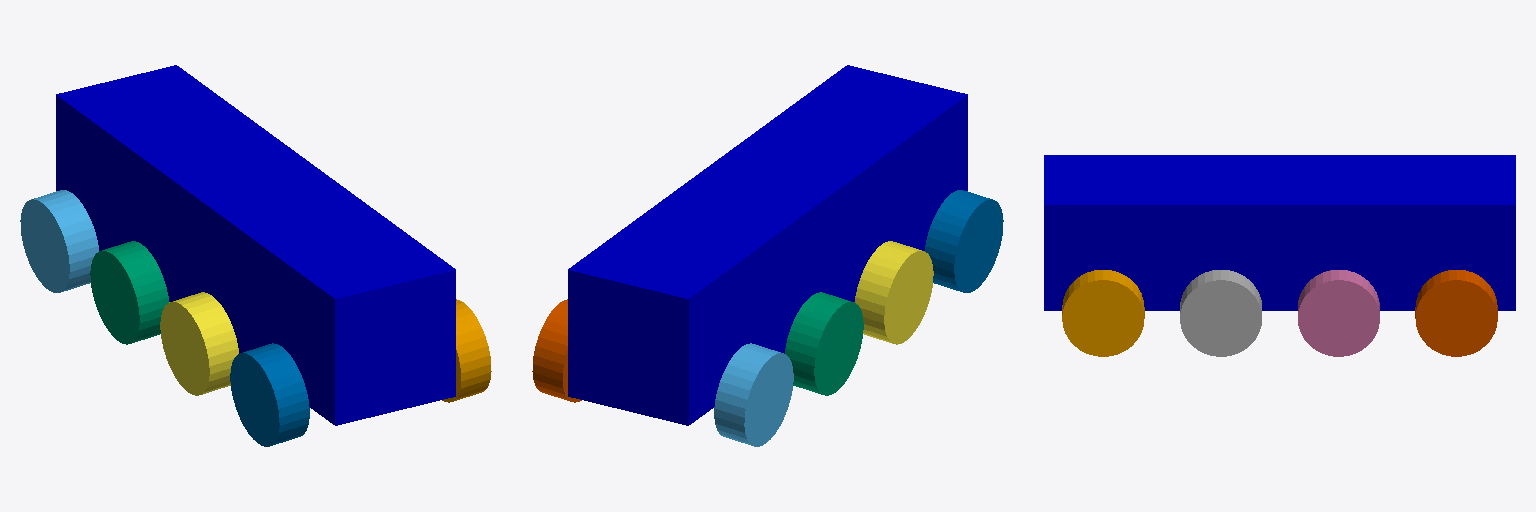
URDF robot description (8x8):
<?xml version="1.0"?>
<robot name="8x8">

  <material name="blue">
    <color rgba="0 0 0.8 1"/>
  </material>

  <material name="white">
    <color rgba="1 1 1 1"/>
  </material>

 <material name="black">
    <color rgba="0 0 0 1"/>
  </material>

  <link name="base_link">
    <visual>
      <geometry>
        <box size="0.2 0.8 0.2"/>
      </geometry>
      <origin rpy="0 0 0" xyz="0 0 0.2"/>
      <material name = "blue"/>
    </visual>
    <collision>
      <geometry>
        <box size="0.2 0.8 0.2"/>
      </geometry>
    </collision>
    <inertial>
      <mass value = "10" />
      <inertia ixx="0.5667" ixy="0.0" ixz="0.0" iyy="0.5667" iyz="0.0" izz="0.0667"/>
    </inertial>
  </link>

  <link name="left_wheel_1">
    <visual>
      <geometry>
        <cylinder length="0.05" radius="0.07"/>
      </geometry>
      <material name="Black"/>
      <origin rpy="0 1.5 0" xyz="-0.05 0 0"/>
    </visual>
  </link>

  <joint name="LW1_joint" type="revolute">
    <axis xyz="0 0 1" />
    <limit effort="1000.0" lower="-0.5" upper="0.5" velocity="0.5"/>
    <parent link="base_link"/>
    <child link="left_wheel_1"/>
    <origin xyz="-0.1 0.3 0.12"/>
  </joint>

<link name="left_wheel_2">
    <visual>
      <geometry>
        <cylinder length="0.05" radius="0.07"/>
      </geometry>
      <material name="Black"/>
      <origin rpy="0 1.5 0" xyz="-0.05 0 0"/>
    </visual>
  </link>

  <joint name="LW2_joint" type="revolute">
    <axis xyz="0 0 1" />
    <limit effort="1000.0" lower="-0.5" upper="0.5" velocity="0.5"/>
    <parent link="base_link"/>
    <child link="left_wheel_2"/>
    <origin xyz="-0.1 0.1 0.12"/>
  </joint>


<link name="left_wheel_3">
    <visual>
      <geometry>
        <cylinder length="0.05" radius="0.07"/>
      </geometry>
      <material name="Black"/>
      <origin rpy="0 1.5 0" xyz="-0.05 0 0"/>
    </visual>
  </link>

  <joint name="LW3_joint" type="revolute">
    <axis xyz="0 0 1" />
    <limit effort="1000.0" lower="-0.5" upper="0.5" velocity="0.5"/>
    <parent link="base_link"/>
    <child link="left_wheel_3"/>
    <origin xyz="-0.1 -0.1 0.12"/>
  </joint>

<link name="left_wheel_4">
    <visual>
      <geometry>
        <cylinder length="0.05" radius="0.07"/>
      </geometry>
      <material name="Black"/>
      <origin rpy="0 1.5 0" xyz="-0.05 0 0"/>
    </visual>
  </link>

  <joint name="LW4_joint" type="fixed">
    <parent link="base_link"/>
    <child link="left_wheel_4"/>
    <origin xyz="-0.1 -0.3 0.12"/>
  </joint>

// Right side
<link name="right_wheel_1">
    <visual>
      <geometry>
        <cylinder length="0.05" radius="0.07"/>
      </geometry>
      <material name="Black"/>
      <origin rpy="0 1.5 0" xyz="0.05 0 0"/>
    </visual>
  </link>

  <joint name="RW1_joint" type="revolute">
    <axis xyz="0 0 1" />
    <limit effort="1000.0" lower="-0.5" upper="0.5" velocity="0.5"/>
    <parent link="base_link"/>
    <child link="right_wheel_1"/>
    <origin xyz="0.1 0.3 0.12"/>
  </joint>

<link name="right_wheel_2">
    <visual>
      <geometry>
        <cylinder length="0.05" radius="0.07"/>
      </geometry>
      <material name="Black"/>
       <origin rpy="0 1.5 0" xyz="0.05 0 0"/>
    </visual>
  </link>

  <joint name="RW2_joint" type="revolute">
    <axis xyz="0 0 1" />
    <limit effort="1000.0" lower="-0.5" upper="0.5" velocity="0.5"/>
    <parent link="base_link"/>
    <child link="right_wheel_2"/>
    <origin xyz="0.1 0.1 0.12"/>
  </joint>


<link name="right_wheel_3">
    <visual>
      <geometry>
        <cylinder length="0.05" radius="0.07"/>
      </geometry>
      <material name="Black"/>
       <origin rpy="0 1.5 0" xyz="0.05 0 0"/>
    </visual>
  </link>

  <joint name="RW3_joint" type="revolute">
    <axis xyz="0 0 1" />
    <limit effort="1000.0" lower="-0.5" upper="0.5" velocity="0.5"/>
    <parent link="base_link"/>
    <child link="right_wheel_3"/>
    <origin xyz="0.1 -0.1 0.12"/>
  </joint>

<link name="right_wheel_4">
    <visual>
      <geometry>
        <cylinder length="0.05" radius="0.07"/>
      </geometry>
      <material name="Black"/>
       <origin rpy="0 1.5 0" xyz="0.05 0 0"/>
    </visual>
  </link>

  <joint name="RW4_joint" type="revolute">
    <axis xyz="0 0 1" />
    <limit effort="1000.0" lower="-0.5" upper="0.5" velocity="0.5"/>
    <parent link="base_link"/>
    <child link="right_wheel_4"/>
    <origin xyz="0.1 -0.3 0.12"/>
  </joint>

  <gazebo>
    <plugin name="gazebo_ros_control" filename="libgazebo_ros_control.so">
      <robotNamespace>/</robotNamespace>
    </plugin>
  </gazebo>

</robot>

--- Facts derived from the render (not from the file) ---
The picture shows the robot from 3 angles, left to right: view 1: azimuth 30°, elevation 25°; view 2: azimuth 150°, elevation 25°; view 3: azimuth 270°, elevation 25°; orthographic projection.
Robot: 8x8 — 9 links, 8 joints (7 revolute, 1 fixed); root link base_link; default pose: all joints at 0.
Visible links, largest first — view 1: base_link, left_wheel_4, left_wheel_3, left_wheel_1, left_wheel_2, right_wheel_4; view 2: base_link, left_wheel_1, left_wheel_2, left_wheel_3, left_wheel_4, right_wheel_1; view 3: base_link, right_wheel_1, right_wheel_4, right_wheel_2, right_wheel_3.
Boxes of the visible links, left/top/right/bottom form: base_link: left=56, top=65, right=455, bottom=425; left_wheel_4: left=230, top=343, right=309, bottom=446; left_wheel_3: left=160, top=292, right=238, bottom=395; left_wheel_1: left=20, top=190, right=98, bottom=292; left_wheel_2: left=90, top=241, right=168, bottom=344; right_wheel_4: left=442, top=299, right=491, bottom=402; base_link: left=568, top=65, right=967, bottom=425; left_wheel_1: left=714, top=343, right=793, bottom=446; left_wheel_2: left=785, top=292, right=863, bottom=395; left_wheel_3: left=855, top=241, right=933, bottom=344; left_wheel_4: left=925, top=190, right=1003, bottom=292; right_wheel_1: left=532, top=299, right=581, bottom=402; base_link: left=1044, top=155, right=1515, bottom=310; right_wheel_1: left=1415, top=270, right=1497, bottom=356; right_wheel_4: left=1062, top=270, right=1144, bottom=356; right_wheel_2: left=1298, top=270, right=1379, bottom=356; right_wheel_3: left=1180, top=270, right=1261, bottom=356.
Bounding box of the posed robot: 0.3598 × 0.8 × 0.2516 m (x, y, z).
Geometry: primitives only (box / cylinder / sphere), no mesh files.